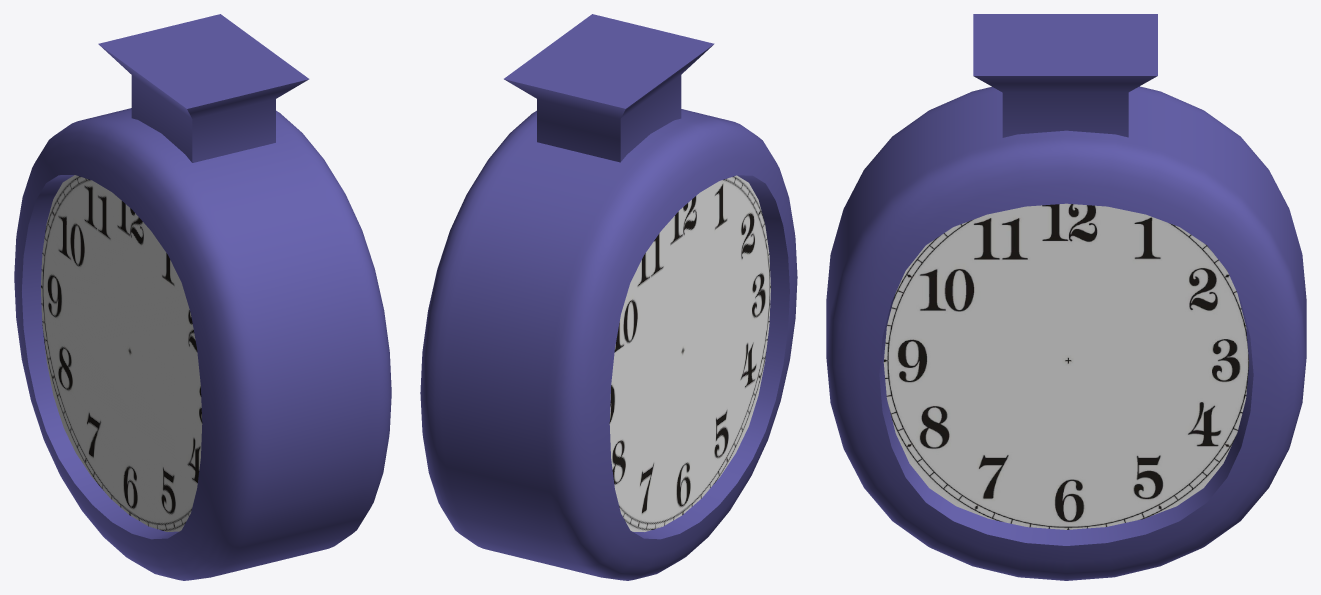
File: hallwayclock.fbx
The picture shows the model from 3 angles, left to right: view 1: azimuth 30°, elevation 25°; view 2: azimuth 150°, elevation 25°; view 3: azimuth 270°, elevation 25°; orthographic projection. The views are drawn at different scales.
Visible parts, largest first — view 1: pCube1, polySurface4, pCube5; view 2: pCube1, polySurface4, pCube5; view 3: polySurface5, pCube1, pCube5.
Part boxes in pixels (left/top/right/bottom): pCube1: left=14, top=108, right=391, bottom=580; polySurface4: left=40, top=175, right=202, bottom=531; pCube5: left=98, top=14, right=309, bottom=162; pCube1: left=420, top=109, right=797, bottom=580; polySurface4: left=609, top=175, right=770, bottom=531; pCube5: left=504, top=14, right=714, bottom=162; polySurface5: left=883, top=203, right=1249, bottom=529; pCube1: left=826, top=86, right=1306, bottom=580; pCube5: left=973, top=14, right=1157, bottom=137.
Size of the model in its own units: 0.8019 by 2.04 by 1.77.
2 materials, 1 textured.
